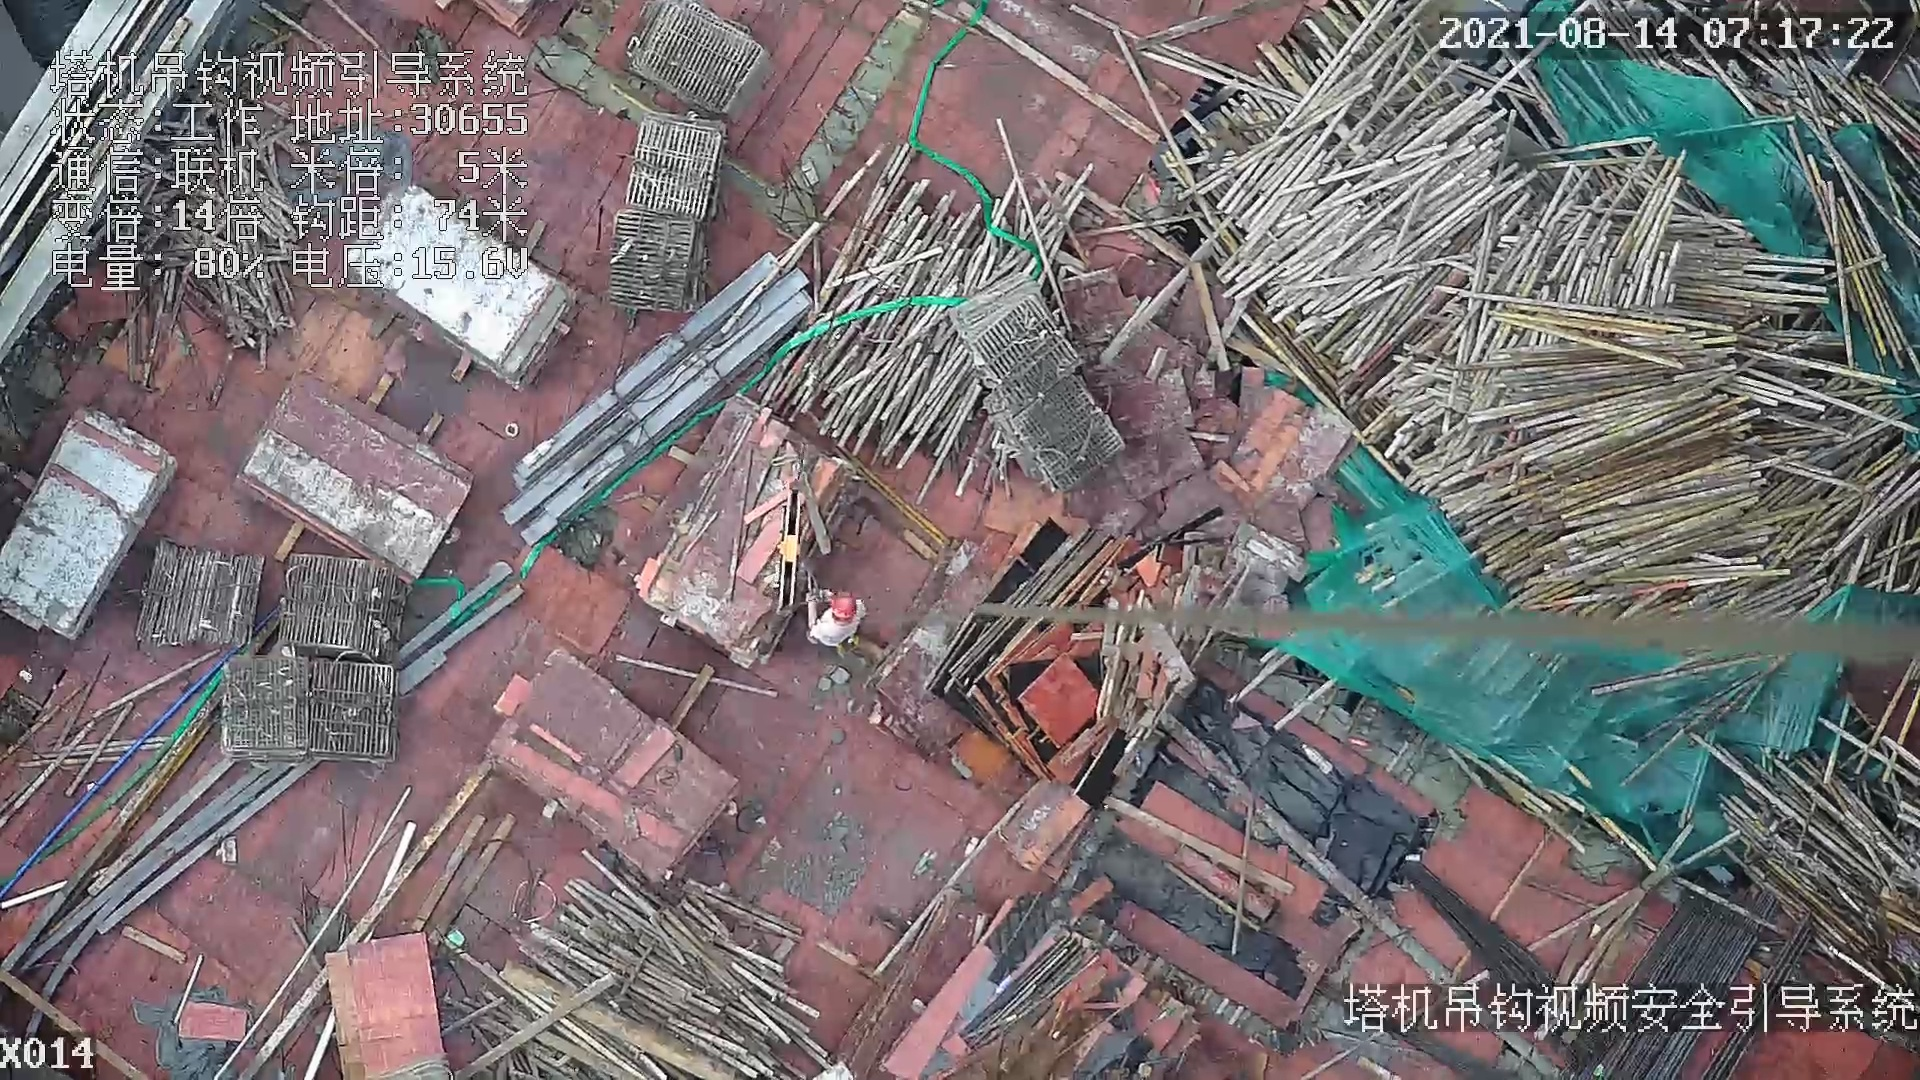helmet: (830, 589, 858, 627)
hook: (773, 483, 808, 621)
person: (810, 594, 858, 646)
